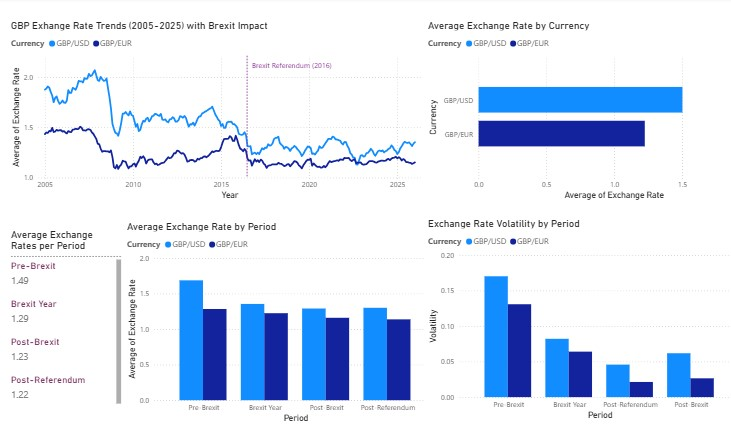

The dashboard page shown, as its layout file describes it:
{"tool":"powerbi","page":{"name":"Page 1","canvas":[1280,720],"ordinal":0},"visuals":[{"type":"lineChart","title":"GBP Exhange Rate Trends (2005-2025) with Brexit Impact","fields":{"Category":["GBP_EUR_USD.Date.Variation.Date Hierarchy.Year","GBP_EUR_USD.Date.Variation.Date Hierarchy.Month"],"Y":["Avg(GBP_EUR_USD.Exchange Rate)"],"Series":["GBP_EUR_USD.Currency"]},"box":[19.7,37.7,701.6,309.8],"z":0},{"type":"barChart","title":"Average Exchange Rate by Currency","fields":{"Y":["Avg(GBP_EUR_USD.Exchange Rate)"],"Category":["GBP_EUR_USD.Currency"],"Series":["GBP_EUR_USD.Currency"]},"box":[721.3,37.7,559,309.8],"z":1000},{"type":"clusteredColumnChart","title":"Average Exchange Rate by Period","fields":{"Category":["GBP_EUR_USD.Period"],"Y":["Avg(GBP_EUR_USD.Exchange Rate)"],"Series":["GBP_EUR_USD.Currency"]},"box":[215,374.6,530.8,346],"z":2000},{"type":"multiRowCard","title":"Average Exchange Rates per Period","fields":{"Values":["Avg(GBP_EUR_USD.Exchange Rate)","GBP_EUR_USD.Period"]},"box":[20.2,388,194.9,310.8],"z":3000},{"type":"clusteredColumnChart","title":"Exchange Rate Volatility by Period","fields":{"Category":["GBP_EUR_USD.Period"],"Y":["GBP_EUR_USD.Volatility"],"Series":["GBP_EUR_USD.Currency"]},"box":[721.3,368.9,534.4,345.9],"z":4000}]}

Visuals, with their boxes on the page's 1280x720 design canvas (x1, y1, x2, y2). These are canvas units, not pixel positions in the 731x426 screenshot, which may show the page scaled, cropped or inside an application window:
"GBP Exhange Rate Trends (2005-2025) with Brexit Impact" lineChart: [20,38,721,348]
"Average Exchange Rate by Currency" barChart: [721,38,1280,348]
"Average Exchange Rate by Period" clusteredColumnChart: [215,375,746,721]
"Average Exchange Rates per Period" multiRowCard: [20,388,215,699]
"Exchange Rate Volatility by Period" clusteredColumnChart: [721,369,1256,715]
